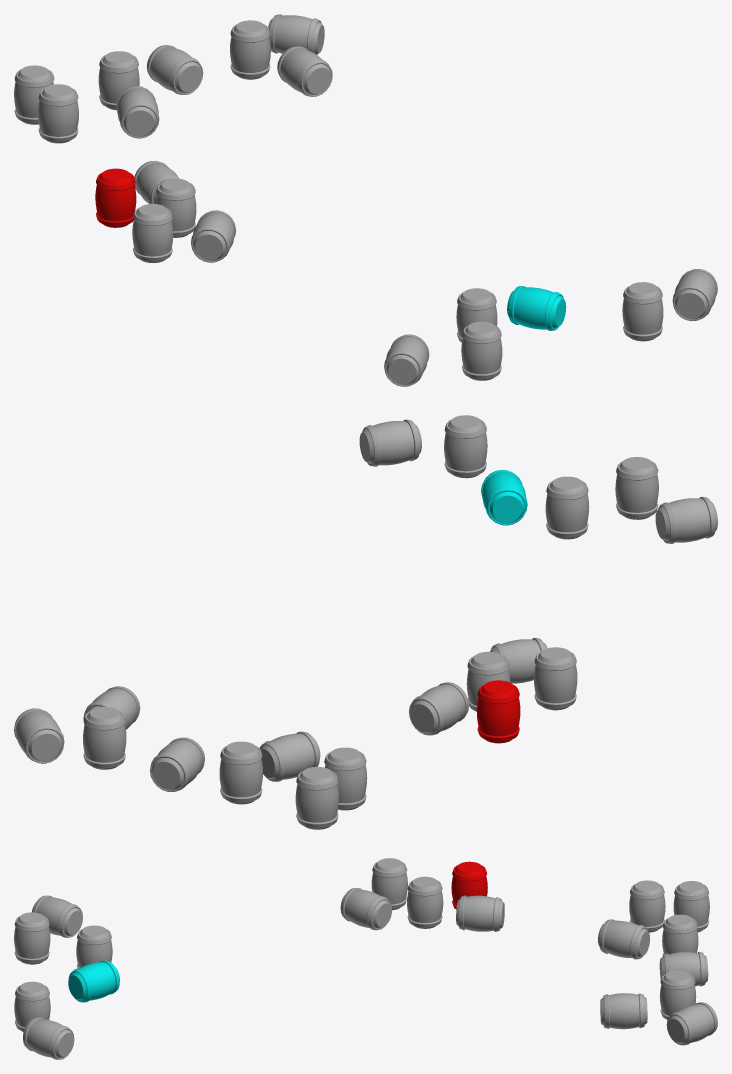
The model's file is Kegs.fbx.
3 renders of one model, top to bottom at view 1: azimuth 30°, elevation 25°; view 2: azimuth 150°, elevation 25°; view 3: azimuth 270°, elevation 25°, orthographic. The views are drawn at different scales.
Visible parts, largest first — view 1: pCylinder8, pCylinder10, pCylinder19, pCylinder3, pCylinder9, pCylinder6, pCylinder4, pCylinder16, pCylinder18, pCylinder17, pCylinder13, pCylinder12 (+7 smaller); view 2: pCylinder4, pCylinder6, pCylinder7, pCylinder2, pCylinder1, pCylinder10, pCylinder19, pCylinder8, pCylinder11, pCylinder12, pCylinder14, pCylinder15 (+7 smaller); view 3: pCylinder8, pCylinder5, pCylinder15, pCylinder9, pCylinder12, pCylinder13, pCylinder17, pCylinder14, pCylinder18, pCylinder3, pCylinder6, pCylinder11 (+7 smaller).
Part boxes in pixels (x1=…): pCylinder8: x1=461, y1=321, x2=502, y2=380; pCylinder10: x1=622, y1=282, x2=663, y2=341; pCylinder19: x1=230, y1=20, x2=270, y2=79; pCylinder3: x1=38, y1=84, x2=78, y2=143; pCylinder9: x1=507, y1=286, x2=566, y2=330; pCylinder6: x1=132, y1=204, x2=173, y2=262; pCylinder4: x1=95, y1=168, x2=136, y2=227; pCylinder16: x1=146, y1=45, x2=203, y2=94; pCylinder18: x1=277, y1=46, x2=332, y2=96; pCylinder17: x1=268, y1=14, x2=324, y2=55; pCylinder13: x1=191, y1=210, x2=236, y2=262; pCylinder12: x1=672, y1=269, x2=717, y2=321; pCylinder4: x1=477, y1=680, x2=520, y2=743; pCylinder6: x1=534, y1=647, x2=577, y2=710; pCylinder7: x1=545, y1=476, x2=589, y2=539; pCylinder2: x1=219, y1=741, x2=262, y2=804; pCylinder1: x1=295, y1=766, x2=339, y2=829; pCylinder10: x1=444, y1=415, x2=487, y2=478; pCylinder19: x1=83, y1=706, x2=126, y2=769; pCylinder8: x1=615, y1=457, x2=658, y2=519; pCylinder11: x1=655, y1=496, x2=717, y2=543; pCylinder12: x1=359, y1=419, x2=421, y2=466; pCylinder14: x1=409, y1=682, x2=468, y2=735; pCylinder15: x1=259, y1=731, x2=320, y2=781; pCylinder8: x1=14, y1=912, x2=50, y2=964; pCylinder5: x1=407, y1=876, x2=443, y2=928; pCylinder15: x1=598, y1=919, x2=650, y2=959; pCylinder9: x1=68, y1=960, x2=119, y2=1002; pCylinder12: x1=23, y1=1017, x2=74, y2=1059; pCylinder13: x1=340, y1=888, x2=391, y2=930; pCylinder17: x1=666, y1=1002, x2=717, y2=1045; pCylinder14: x1=456, y1=895, x2=504, y2=931; pCylinder18: x1=600, y1=993, x2=647, y2=1029; pCylinder3: x1=629, y1=880, x2=665, y2=932; pCylinder6: x1=371, y1=858, x2=407, y2=910; pCylinder11: x1=32, y1=895, x2=82, y2=937.
Bounding box in the file's own units: 3.42 × 0.395 × 6.04.
